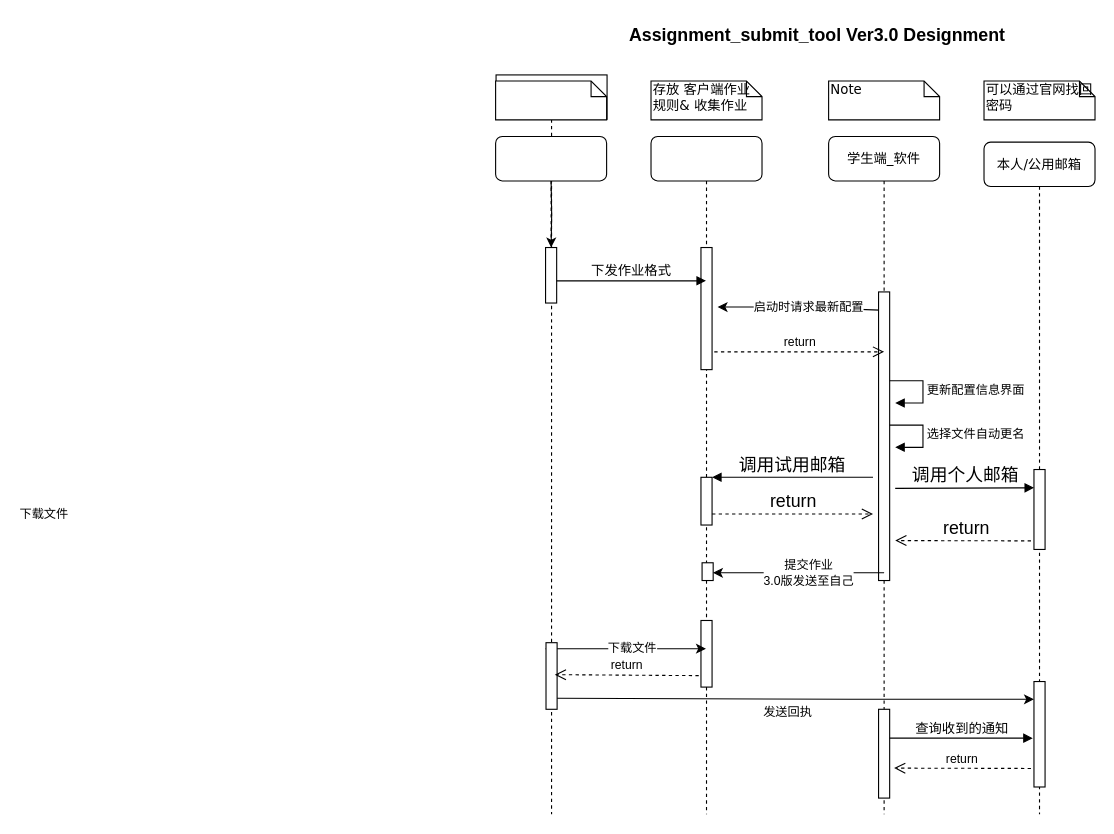
Image size: 1114x834. Some labels were removed from this diagram. The box of each missing label's shape, as (x1, y1, x2, y2) in pixels:
后台管理脚本: (495, 80, 607, 120)
管理者_脚本: (495, 135, 607, 303)
规则邮箱: (650, 135, 762, 814)
